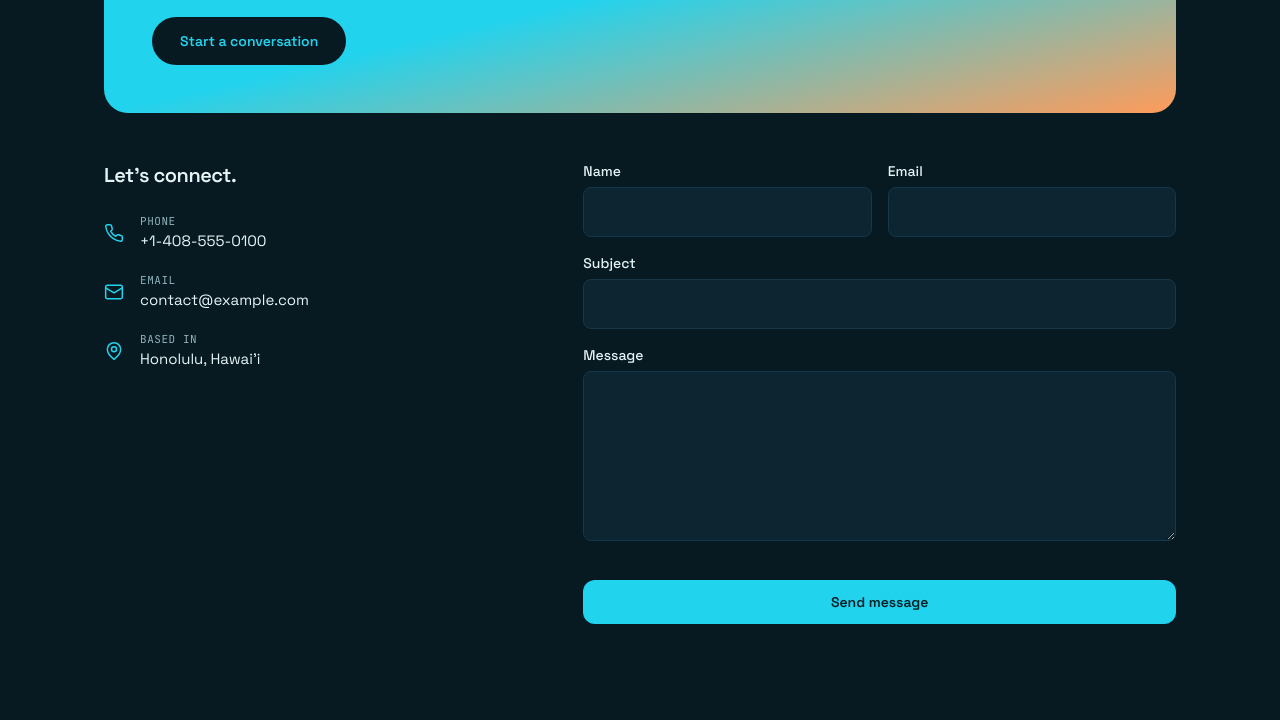
Test case: Contact › blocks submission and announces errors when fields are empty
(page scrolled)
Click the button "Send message". click: coordinates (880, 602)
box: [583,580,1176,624]
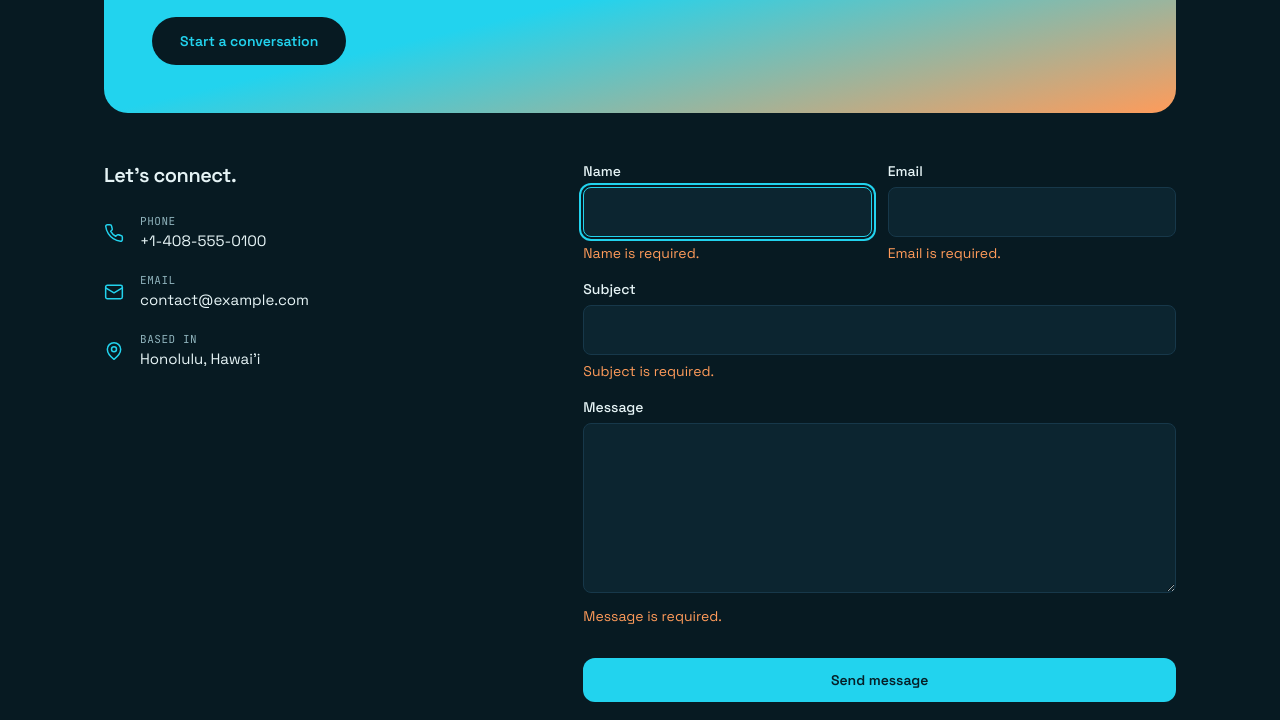
Check: the text "Name is required." is shown, box [583,244,699,262]
